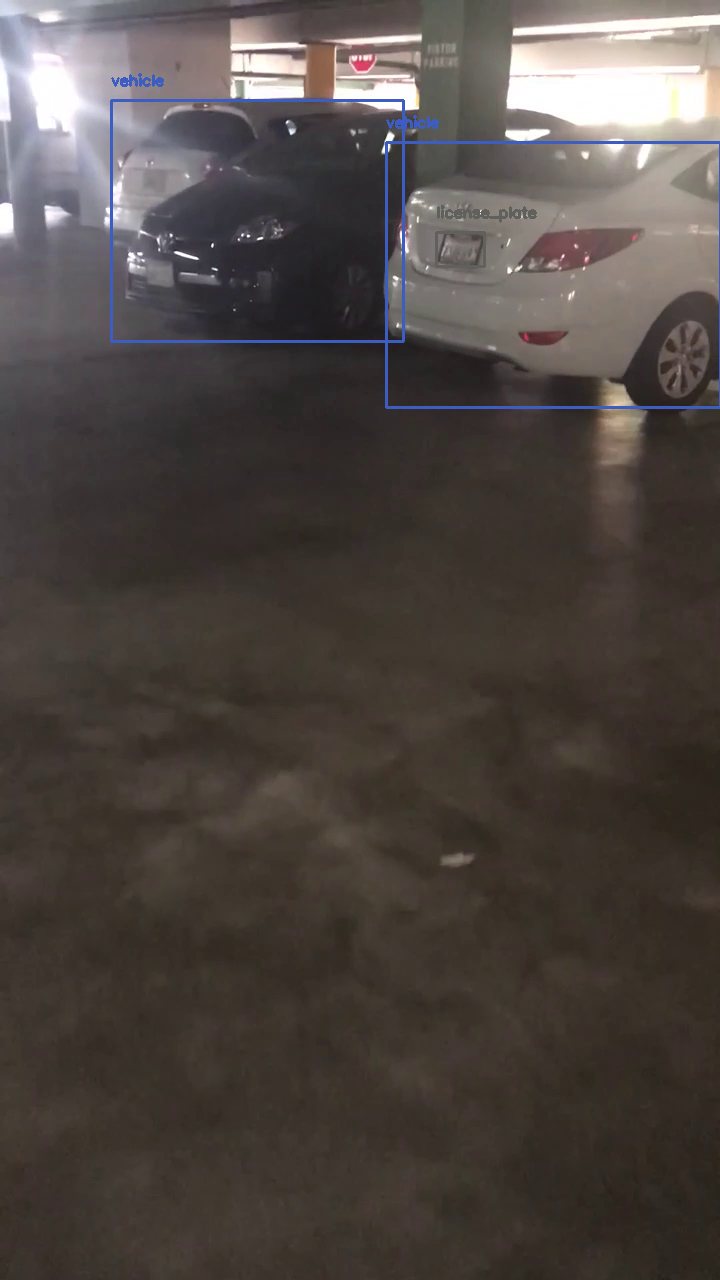license_plate: (436, 232, 484, 266)
vehicle: (386, 142, 720, 407), (111, 100, 403, 341)
